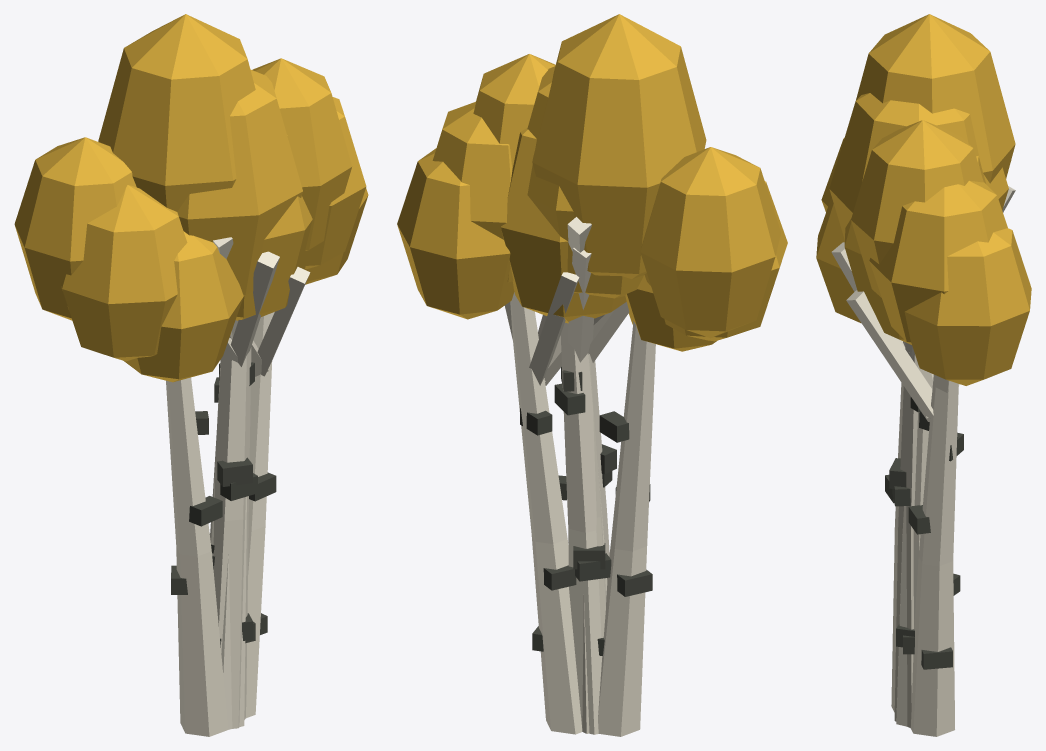
File: tree_birch_autumn.glb
3 renders of one model, left to right at view 1: azimuth 30°, elevation 25°; view 2: azimuth 150°, elevation 25°; view 3: azimuth 270°, elevation 25°, orthographic. The views are drawn at different scales.
Parts seen in each view (by area): view 1: Birch_airy_lobe_canopy.006, Birch_airy_lobe_canopy.001, Birch_pale_stem.001, Birch_airy_lobe_canopy, Birch_airy_lobe_canopy.007, Birch_airy_lobe_canopy.004, Birch_pale_stem.003, Birch_airy_lobe_canopy.008, Birch_pale_stem.002, Birch_airy_lobe_canopy.003, Birch_airy_lobe_canopy.002, Birch_pale_stem (+5 smaller); view 2: Birch_airy_lobe_canopy.006, Birch_airy_lobe_canopy.007, Birch_pale_stem.001, Birch_pale_stem.002, Birch_airy_lobe_canopy.005, Birch_pale_stem, Birch_airy_lobe_canopy.003, Birch_airy_lobe_canopy.002, Birch_airy_lobe_canopy.008, Birch_airy_lobe_canopy, Birch_pale_stem.003, Birch_airy_lobe_canopy.004 (+9 smaller); view 3: Birch_airy_lobe_canopy.005, Birch_airy_lobe_canopy.006, Birch_pale_stem.002, Birch_airy_lobe_canopy.002, Birch_airy_lobe_canopy.008, Birch_airy_lobe_canopy, Birch_pale_stem.003, Birch_pale_bough.006, Birch_pale_stem, Birch_airy_lobe_canopy.004, Birch_airy_lobe_canopy.003, Birch_pale_stem.001 (+4 smaller).
Part boxes in pixels (x1,y1,x2,y2): Birch_airy_lobe_canopy.006: [98, 14, 255, 211]; Birch_airy_lobe_canopy.001: [60, 185, 187, 361]; Birch_pale_stem.001: [166, 377, 228, 736]; Birch_airy_lobe_canopy: [177, 69, 302, 295]; Birch_airy_lobe_canopy.007: [14, 137, 136, 320]; Birch_airy_lobe_canopy.004: [123, 231, 243, 382]; Birch_pale_stem.003: [210, 347, 251, 728]; Birch_airy_lobe_canopy.008: [252, 58, 352, 250]; Birch_pale_stem.002: [245, 313, 272, 718]; Birch_airy_lobe_canopy.003: [235, 135, 312, 320]; Birch_airy_lobe_canopy.002: [305, 97, 366, 268]; Birch_pale_stem: [211, 360, 246, 729]; Birch_airy_lobe_canopy.006: [532, 14, 706, 278]; Birch_airy_lobe_canopy.007: [640, 147, 780, 337]; Birch_pale_stem.001: [598, 321, 655, 736]; Birch_pale_stem.002: [510, 292, 582, 734]; Birch_airy_lobe_canopy.005: [397, 148, 514, 319]; Birch_pale_stem: [560, 322, 607, 734]; Birch_airy_lobe_canopy.003: [501, 127, 626, 323]; Birch_airy_lobe_canopy.002: [432, 101, 513, 282]; Birch_airy_lobe_canopy.008: [473, 54, 555, 169]; Birch_airy_lobe_canopy: [527, 66, 643, 298]; Birch_pale_stem.003: [582, 354, 609, 733]; Birch_airy_lobe_canopy.004: [625, 275, 716, 351]; Birch_airy_lobe_canopy.005: [904, 228, 1031, 385]; Birch_airy_lobe_canopy.006: [856, 14, 1015, 183]; Birch_pale_stem.002: [910, 374, 958, 736]; Birch_airy_lobe_canopy.002: [869, 180, 1007, 342]; Birch_airy_lobe_canopy.008: [851, 120, 983, 297]; Birch_airy_lobe_canopy: [829, 93, 1008, 239]; Birch_pale_stem.003: [894, 342, 918, 727]; Birch_pale_bough.006: [846, 290, 933, 421]; Birch_pale_stem: [896, 412, 928, 726]; Birch_airy_lobe_canopy.004: [816, 197, 860, 322]; Birch_airy_lobe_canopy.003: [844, 156, 985, 344]; Birch_pale_stem.001: [891, 383, 903, 712].
Size of the model in its own units: 1.7 by 3.34 by 0.9439.
